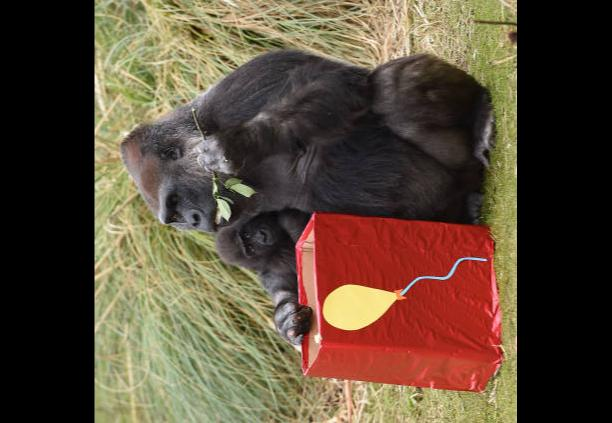gorille_Autres: (113, 10, 396, 250)
